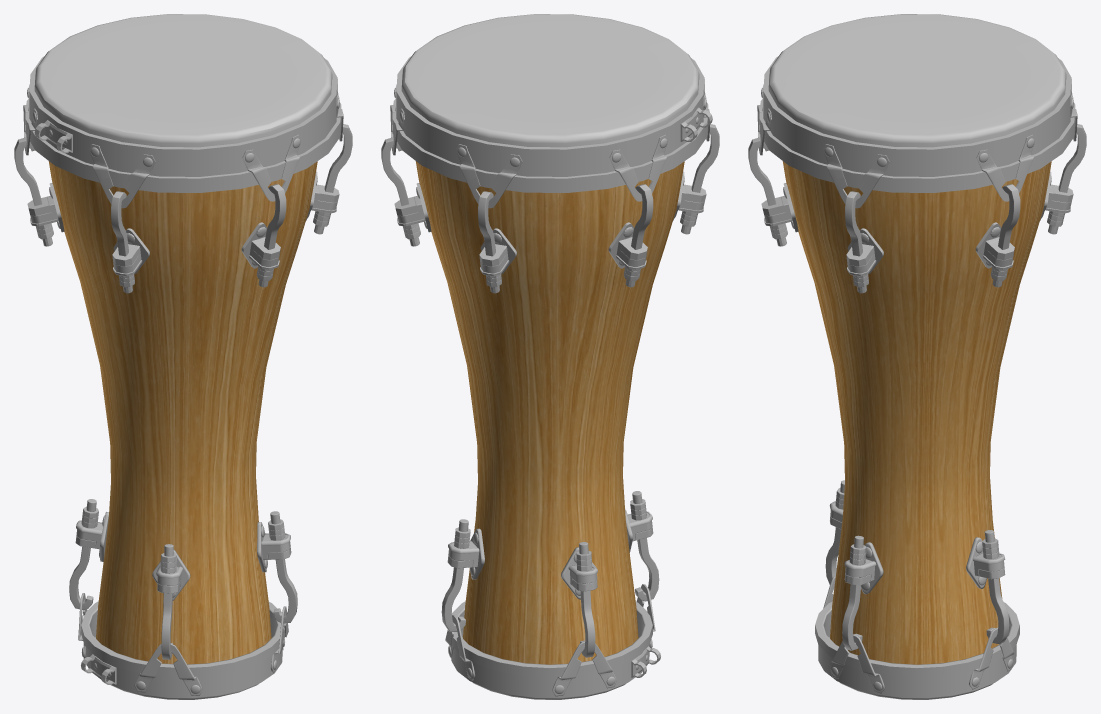
File: Snatched.fbx
The picture shows the model from 3 angles, left to right: view 1: azimuth 30°, elevation 25°; view 2: azimuth 150°, elevation 25°; view 3: azimuth 270°, elevation 25°; orthographic projection.
Visible parts, largest first — view 1: ngomaMini; view 2: ngomaMini; view 3: ngomaMini.
Boxes of the visible parts, x1,y1,x2,y2 form: ngomaMini: (14, 14, 352, 699); ngomaMini: (381, 14, 719, 699); ngomaMini: (748, 14, 1086, 699).
Size of the model in its own units: 4.24 by 8.37 by 4.38.
